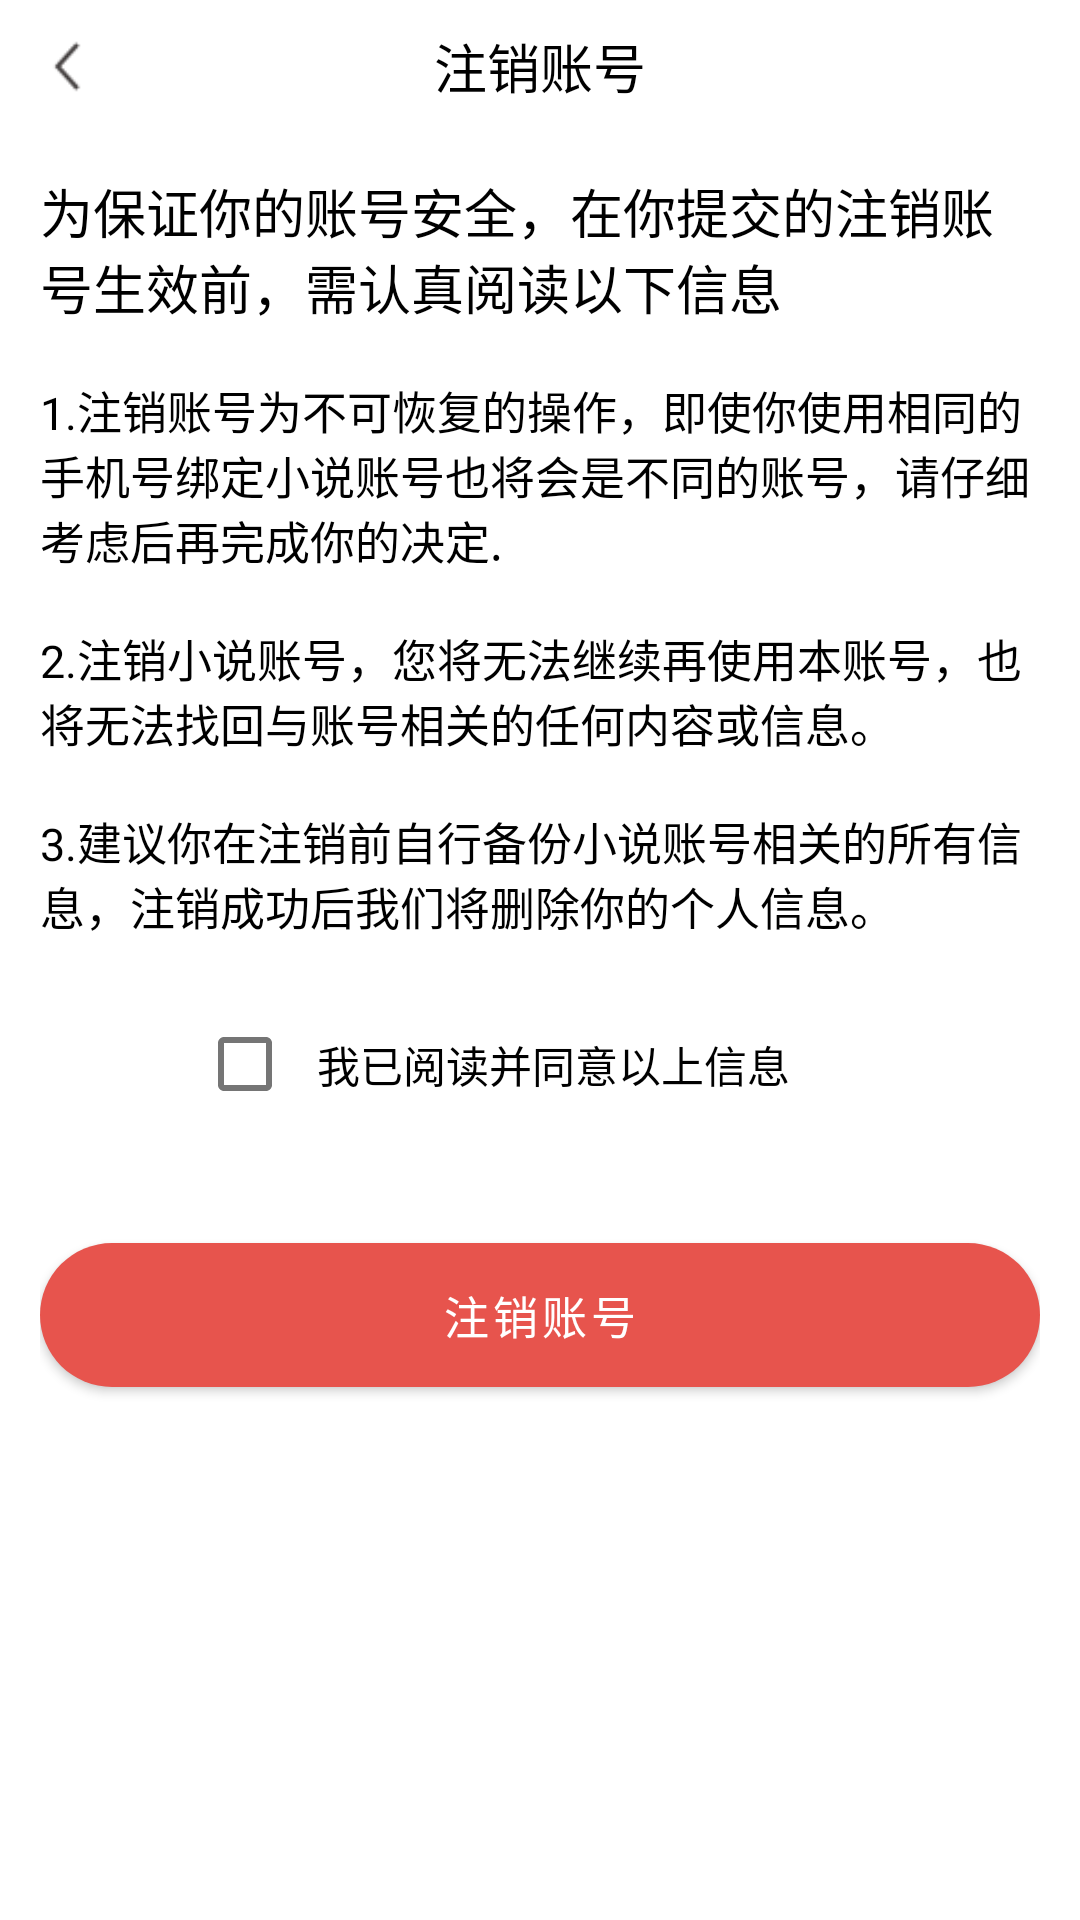

Icons on this 1080×1920 Android screen, each with the point to tap as (x=x, y=y):
返回: (x=67, y=66)
